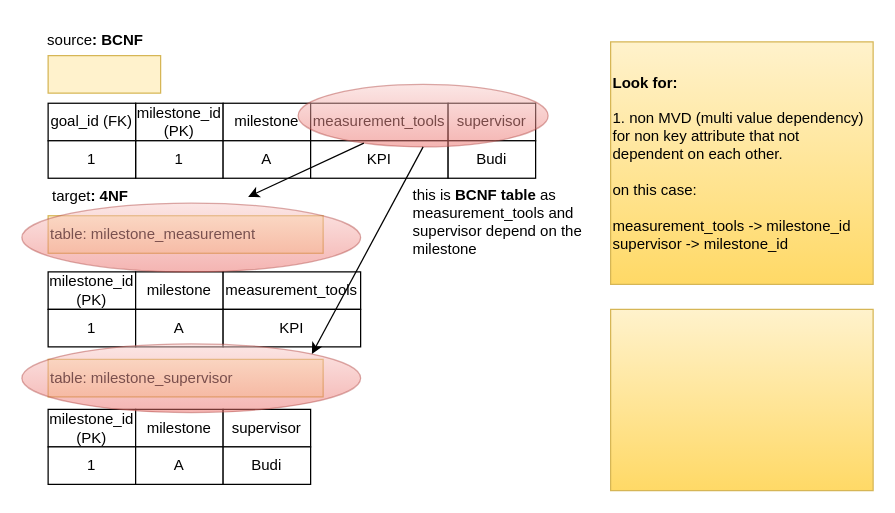
Image size: 895x513. Some labels were removed from this diagram. The shapes that lost their labels are listed below. From the top down, each one's centre as x and y in pixels, then its label:
At point (104, 73): "table: milestone".
At point (741, 399): "Do Best Practices: split these each functional dependency per table".
